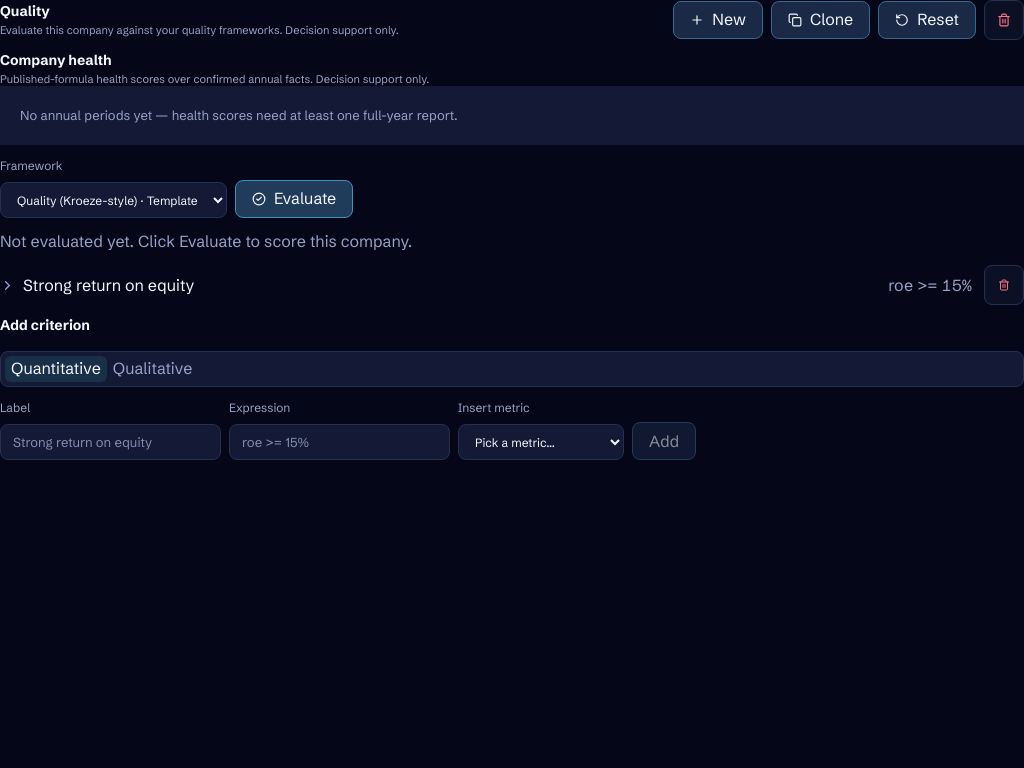
Test: QualityPanel › validates a criterion expression as it is typed
Expected: the text "Strong return on equity" is shown, [23,275,194,295]
Type "roe >=" into the field with placeholder "roe >= 15%" at {"x": 340, "y": 442}, box [229,424,450,460]
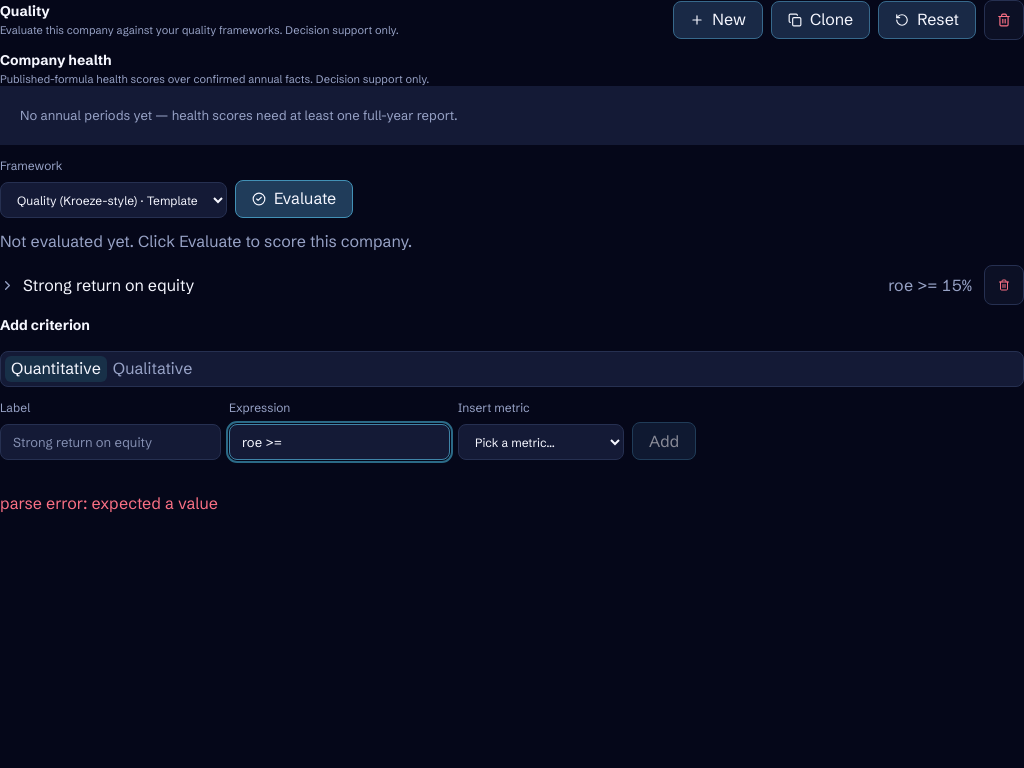
Expected: the text "parse error: expected a value" is shown, [0,493,218,513]
